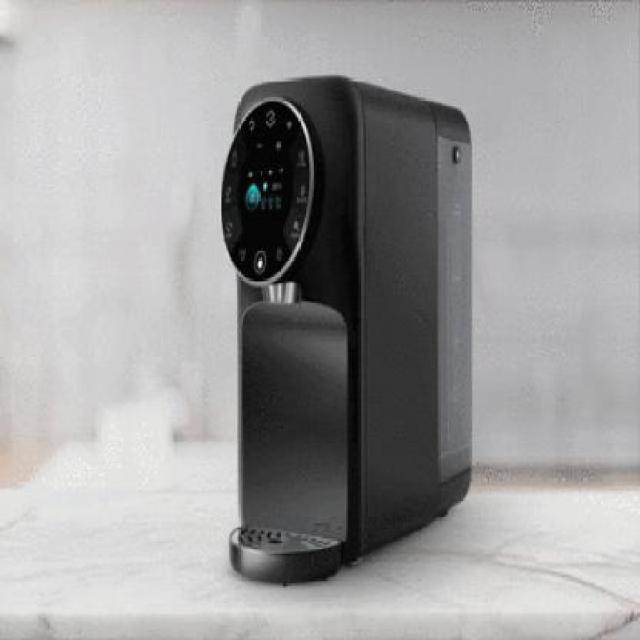cooler: (218, 68, 476, 592)
